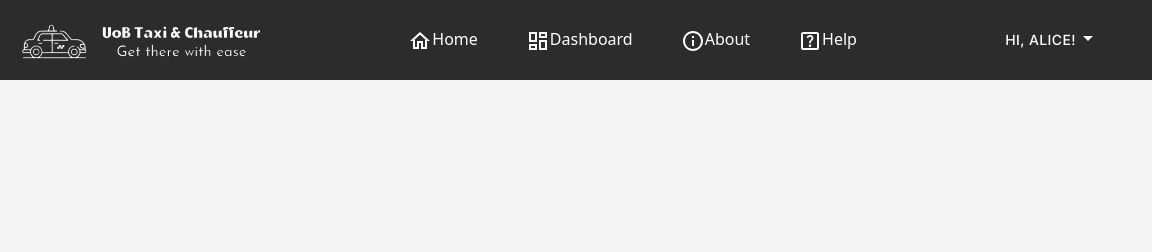
Test: Navbar › opens dropdown menu when clicking on welcome page
Click the button "Hi, Alice!" at (1053, 40), box x1=997 y1=20 x2=1108 y2=60
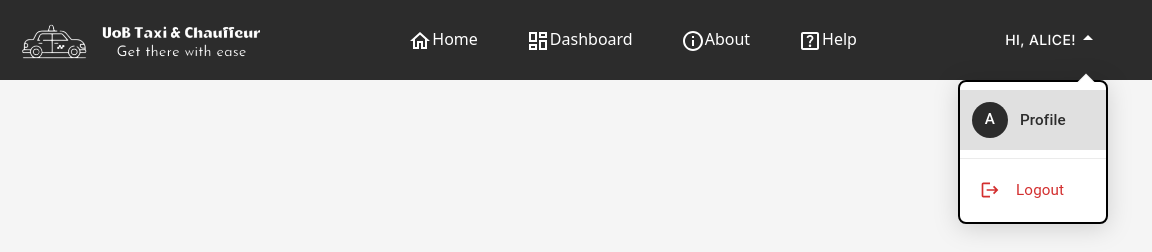
Expected: the menu item "A Profile" is shown, x1=960 y1=90 x2=1106 y2=150
Expected: the text "Logout" is shown, x1=1016 y1=179 x2=1064 y2=202
